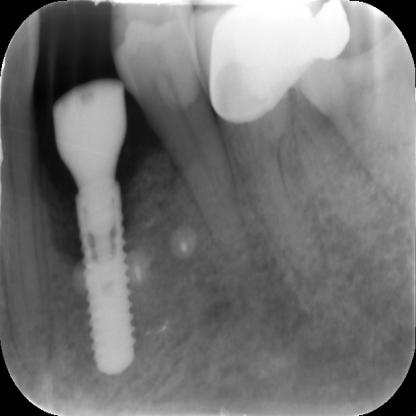ITI: (66, 177, 158, 374)
